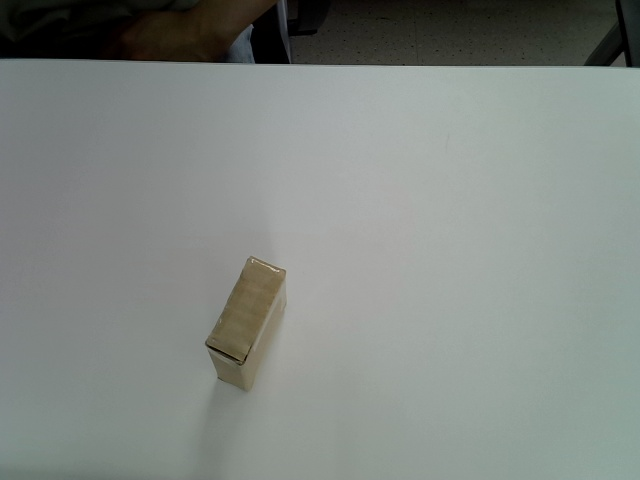normal: (205, 255, 291, 391)
